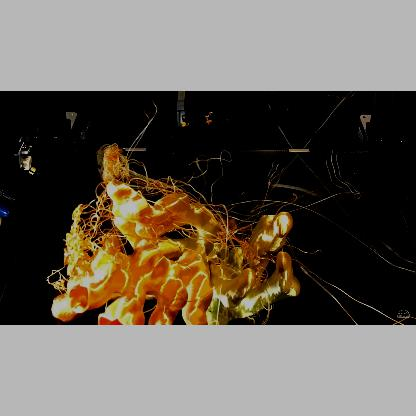fail: (178, 150, 356, 206), (66, 190, 110, 234), (128, 160, 172, 196)
